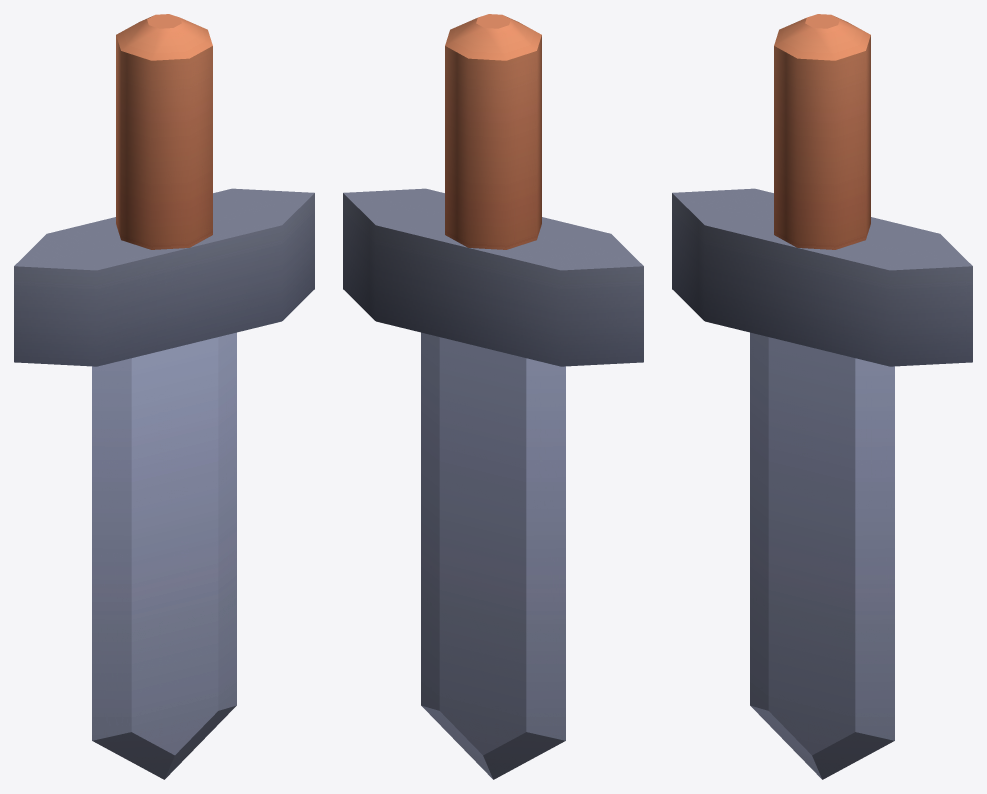
File: weapon-sword.glb
3 views of the same model, side by side, from view 1: azimuth 30°, elevation 25°; view 2: azimuth 150°, elevation 25°; view 3: azimuth 330°, elevation 25° (orthographic).
Parts seen in each view (by area): view 1: weapon-sword; view 2: weapon-sword; view 3: weapon-sword.
Boxes of the visible parts, x1=… form: weapon-sword: x1=14, y1=14, x2=314, y2=779; weapon-sword: x1=343, y1=14, x2=643, y2=779; weapon-sword: x1=672, y1=14, x2=972, y2=779.
Size of the model in its own units: 0.208 by 0.501 by 0.06.
1 material, 1 textured.
